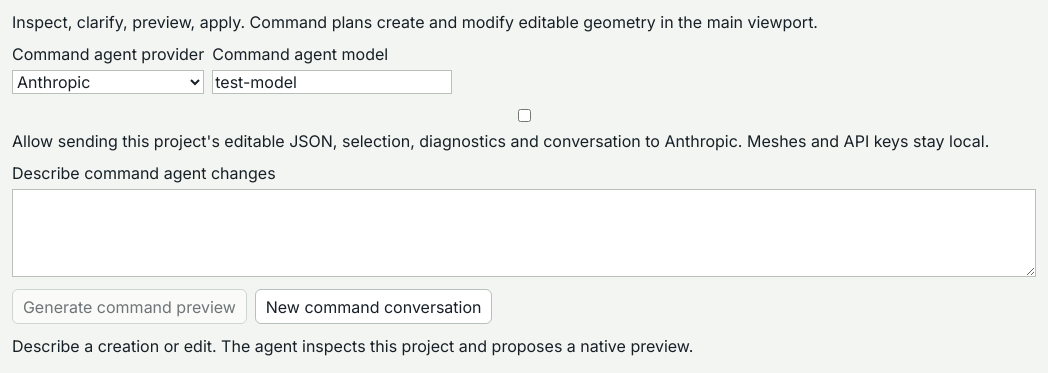
Test: preserves idle status on Escape and handles Escape only for an owned pending request
The image size is (1048, 373).
expect the field labelled "Command agent model" holds "test-model": met, box [212,70,452,94]
Press Escape in the text box labelled "Describe command agent changes", box [12,189,1036,277]
expect the message named "Command agent status" shows "Describe a creation or edit": met, box [12,336,693,356]
Type "Create a part" into the text box labelled "Describe command agent changes" at (524, 233), box [12,189,1036,277]
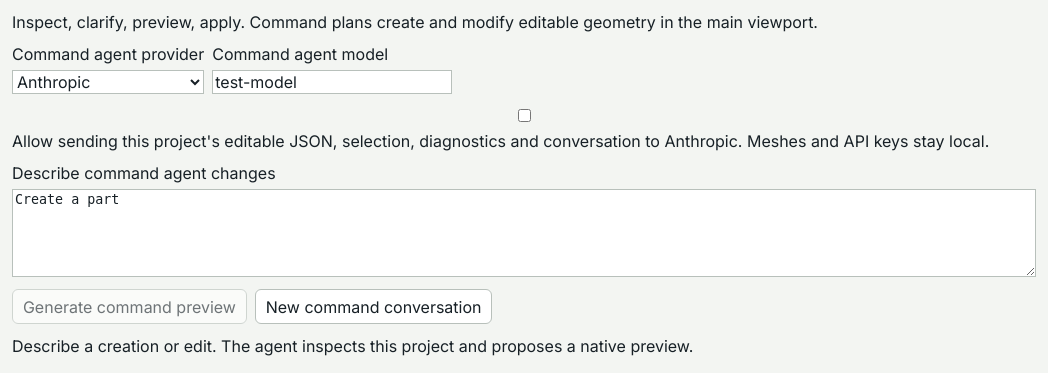
Click the checkbox at (524, 116), box [16,109,1033,122]
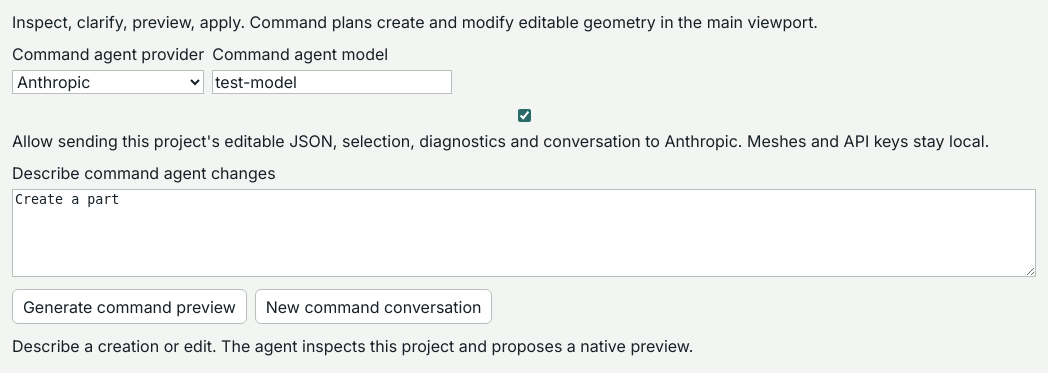
Click the button "Generate command preview" at (129, 307), box [12,289,247,324]
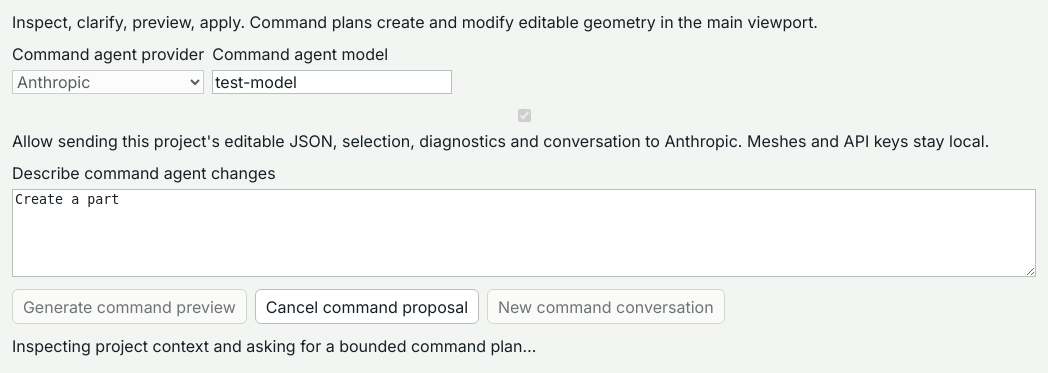
Press Escape in the text box labelled "Describe command agent changes", box [12,189,1036,277]
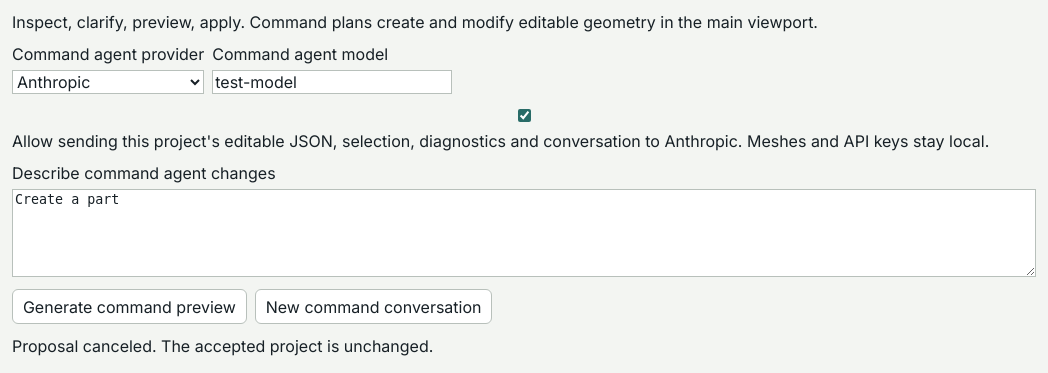
expect the message named "Command agent status" shows "Proposal canceled": met, box [12,336,433,356]
